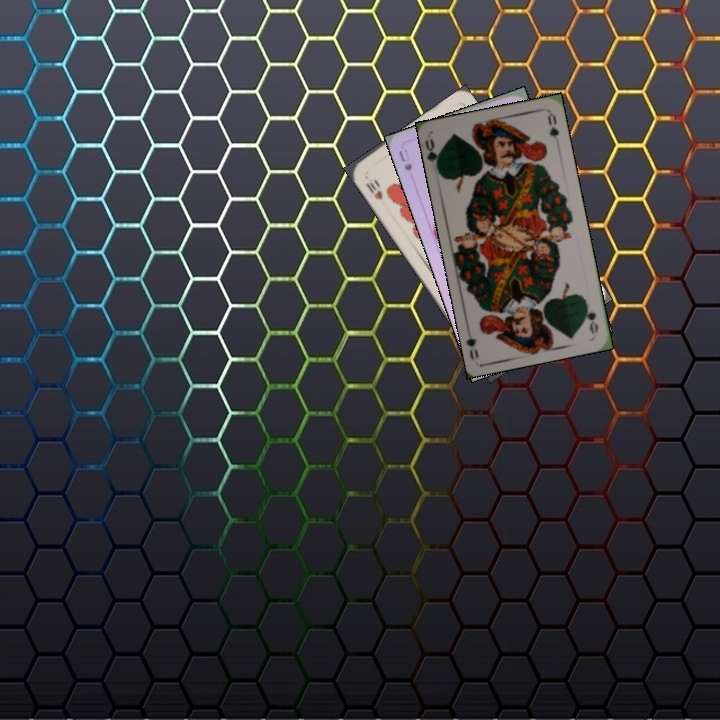GO: (422, 135, 444, 175), (581, 296, 601, 336)
H10: (362, 178, 385, 202)
SU: (395, 145, 415, 174)
